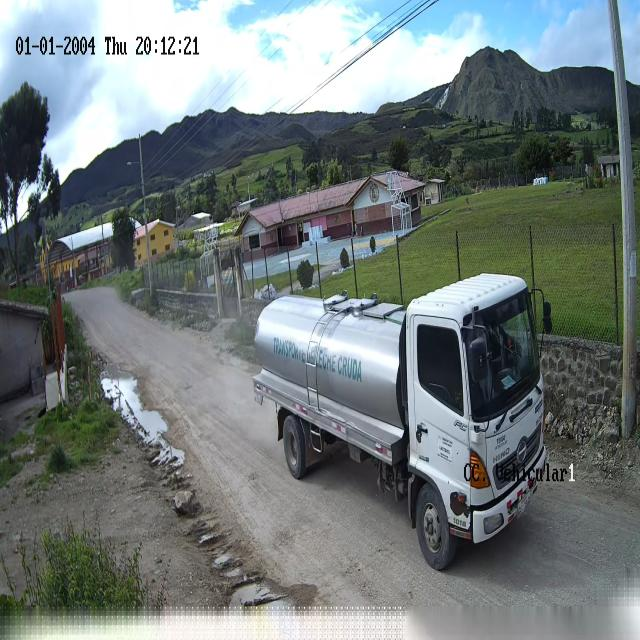TRUCK: (252, 276, 546, 570)
